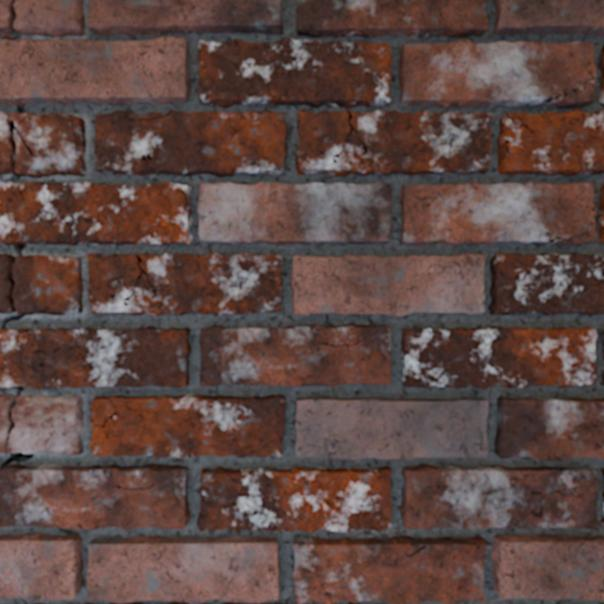brick: (198, 37, 391, 107), (399, 40, 595, 108), (293, 536, 487, 603), (87, 535, 278, 603), (0, 36, 190, 104), (296, 110, 492, 175), (95, 110, 287, 176), (197, 466, 390, 531), (401, 464, 597, 528), (400, 182, 596, 245), (0, 464, 189, 529), (90, 394, 285, 457), (198, 182, 390, 244), (295, 398, 487, 460), (0, 182, 191, 244), (87, 253, 281, 314), (200, 324, 390, 386), (291, 254, 484, 315), (401, 327, 596, 387), (0, 327, 190, 388), (492, 534, 603, 600), (297, 0, 488, 37), (489, 253, 603, 314), (498, 110, 603, 174), (495, 398, 603, 459), (89, 0, 281, 34), (0, 532, 81, 599), (494, 0, 603, 35), (91, 397, 115, 423), (597, 186, 603, 243), (598, 47, 603, 104), (601, 329, 603, 384), (600, 517, 603, 526)
broken_brick: (8, 112, 86, 178), (9, 392, 83, 456), (11, 254, 83, 315), (15, 0, 85, 37), (0, 393, 14, 453), (0, 253, 13, 314), (0, 110, 12, 175), (0, 0, 12, 34)
crack: (0, 385, 33, 467), (543, 59, 597, 103), (0, 243, 25, 330), (2, 113, 33, 183), (332, 109, 369, 163), (123, 253, 158, 306), (90, 398, 125, 439), (17, 329, 44, 367), (0, 0, 21, 41), (506, 113, 535, 134), (543, 230, 588, 243), (127, 110, 174, 121), (57, 526, 82, 541), (80, 559, 87, 587), (589, 206, 598, 225), (16, 103, 25, 113), (383, 219, 391, 227), (181, 601, 189, 603), (74, 0, 76, 6)
